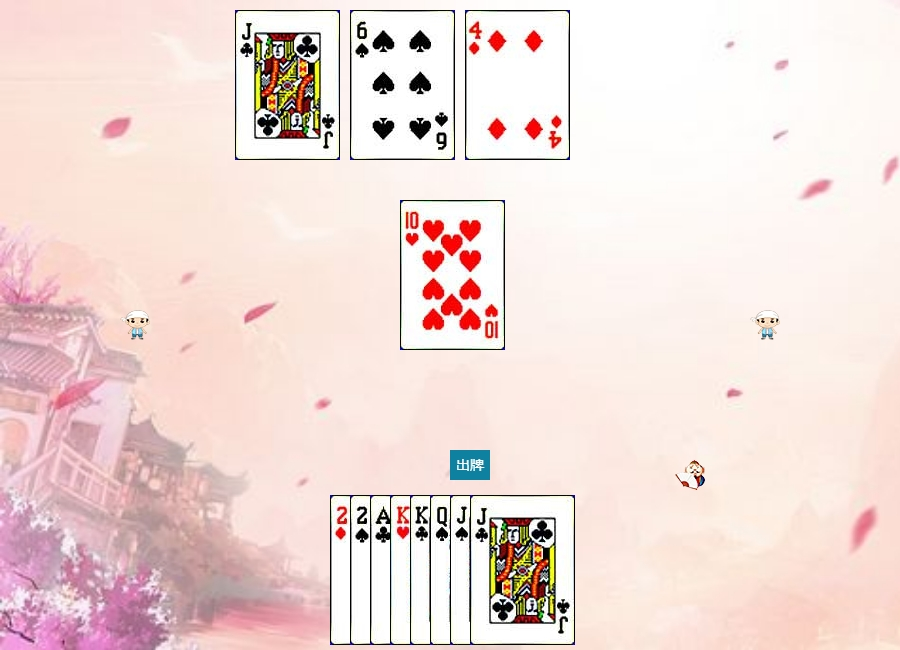10~3: (400, 200, 505, 350)
11~2: (235, 10, 340, 160), (470, 495, 575, 645)
11~4: (450, 495, 555, 645)
12~4: (430, 495, 535, 645)
13~2: (410, 495, 515, 645)
13~3: (390, 495, 495, 645)
14~2: (370, 495, 475, 645)
15~1: (330, 495, 435, 645)
15~4: (350, 495, 455, 645)
4~1: (465, 10, 570, 160)
6~4: (350, 10, 455, 160)
